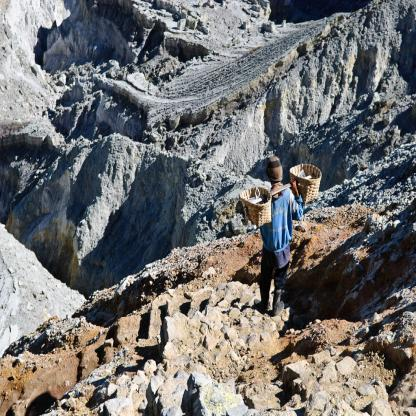person: (238, 140, 304, 310)
